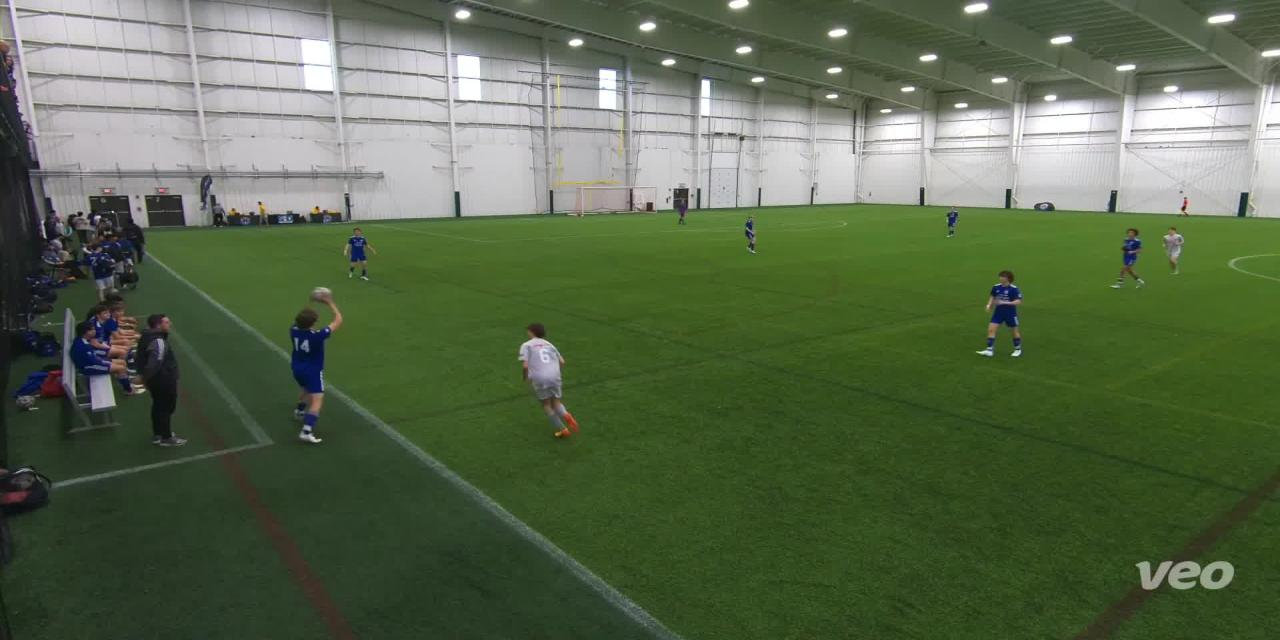goal: (565, 182, 668, 220)
sports ball: (308, 281, 339, 307)
